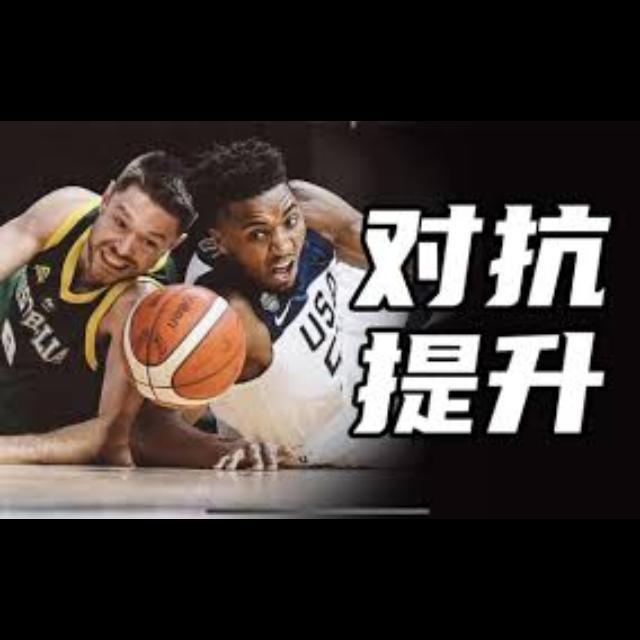basketball: (122, 287, 244, 407)
